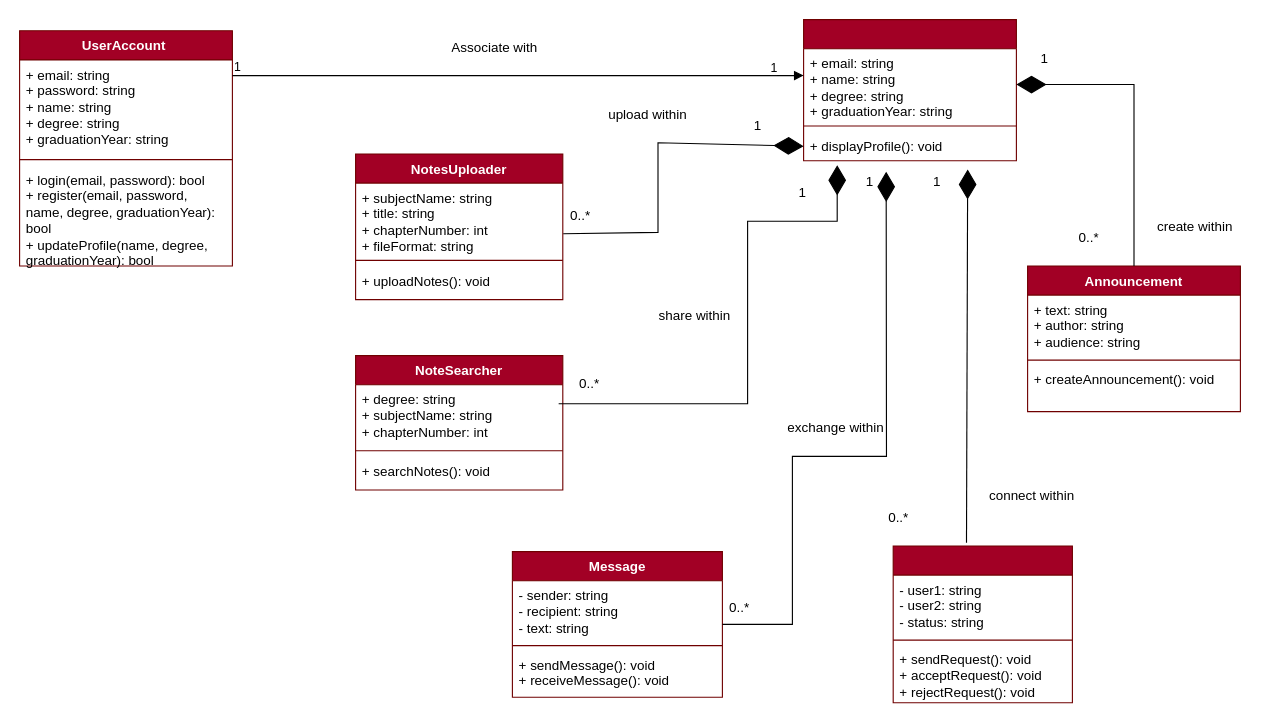
Some shapes in this 1282 by 726 pixel diagram are drawn without their labels. Here are the shapes that lost their labels. From the top down, the box of each, then its label:
(802, 18, 1016, 161): UserProfile
(892, 545, 1072, 703): Connection
